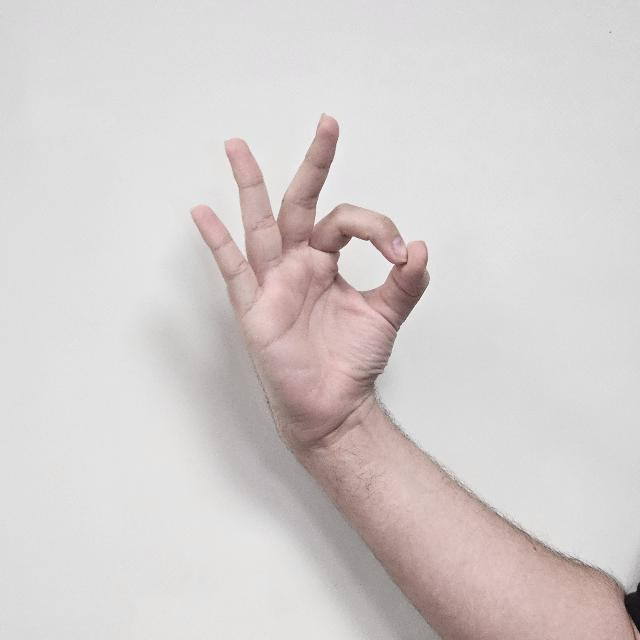Bolinha: (175, 76, 462, 488)
